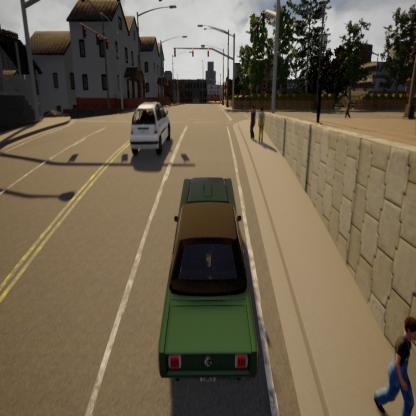Cars: (144, 170, 270, 400), (120, 94, 176, 167)
Pedestrian: (364, 300, 416, 416), (245, 102, 257, 145), (258, 102, 268, 148)
